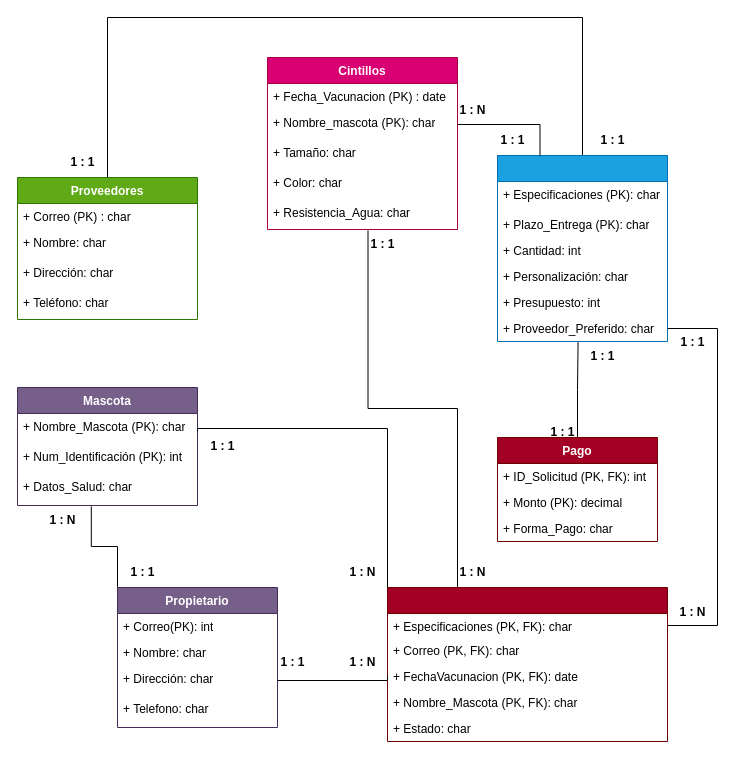
This 736x762 diagram has some shape labels left out. Here are the shapes that lost their labels. From the top down, the box of each, then its label:
(496, 154, 668, 342): Solicitud
(386, 586, 668, 742): Registro
